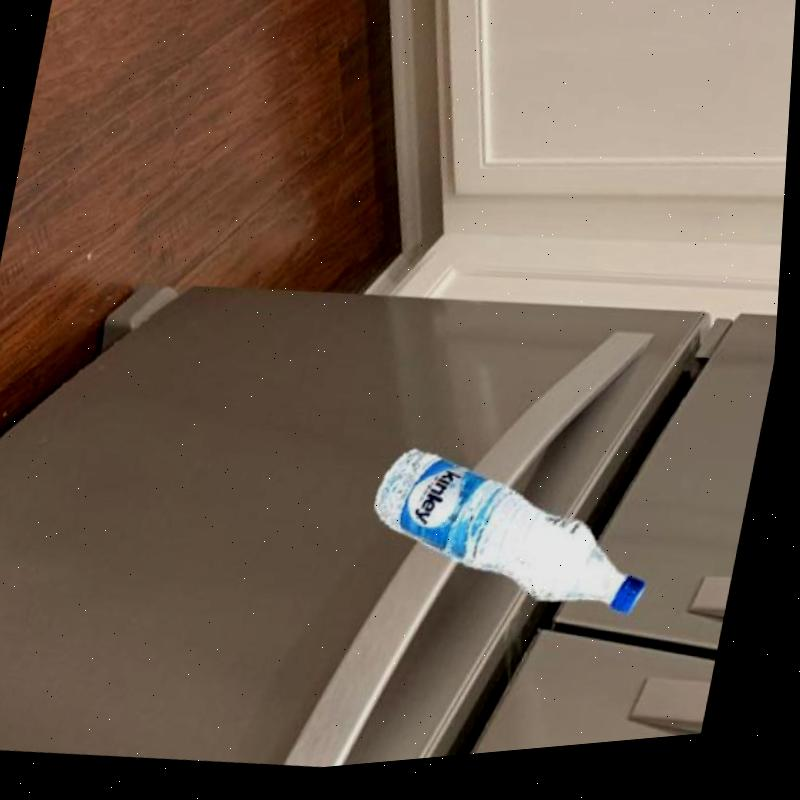botella: (362, 426, 683, 648)
